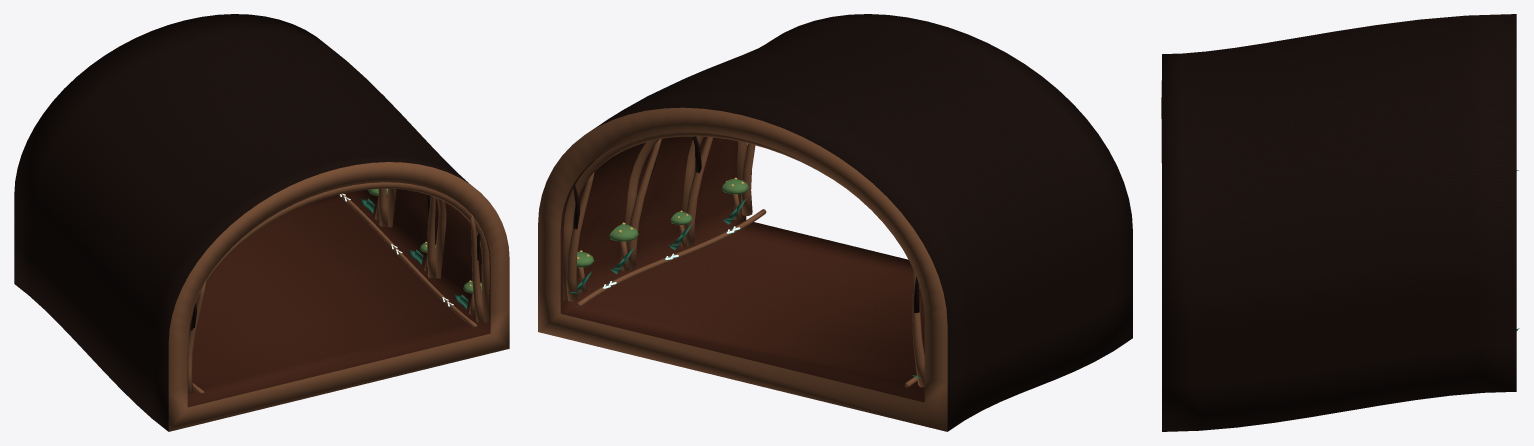
Rendered from grade_up.glb.
The picture shows the model from 3 angles, left to right: view 1: azimuth 30°, elevation 25°; view 2: azimuth 150°, elevation 25°; view 3: azimuth 270°, elevation 25°; orthographic projection. The views are drawn at different scales.
Parts seen in each view (by area): view 1: TunnelGeometry; view 2: TunnelGeometry; view 3: TunnelGeometry.
Boxes of the visible parts, x1=… form: TunnelGeometry: x1=14, y1=14, x2=509, y2=431; TunnelGeometry: x1=538, y1=14, x2=1132, y2=431; TunnelGeometry: x1=1161, y1=14, x2=1519, y2=431.
Bounding box in the file's own units: 15.3 × 11.02 × 12.12.
Materials: 7 (2 with a texture image).
